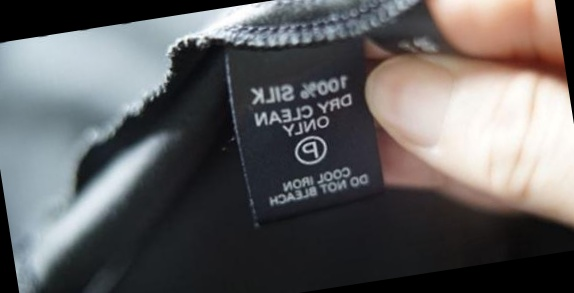dry_clean_any_solvent_except_trichloroethylene: (291, 132, 329, 167)
